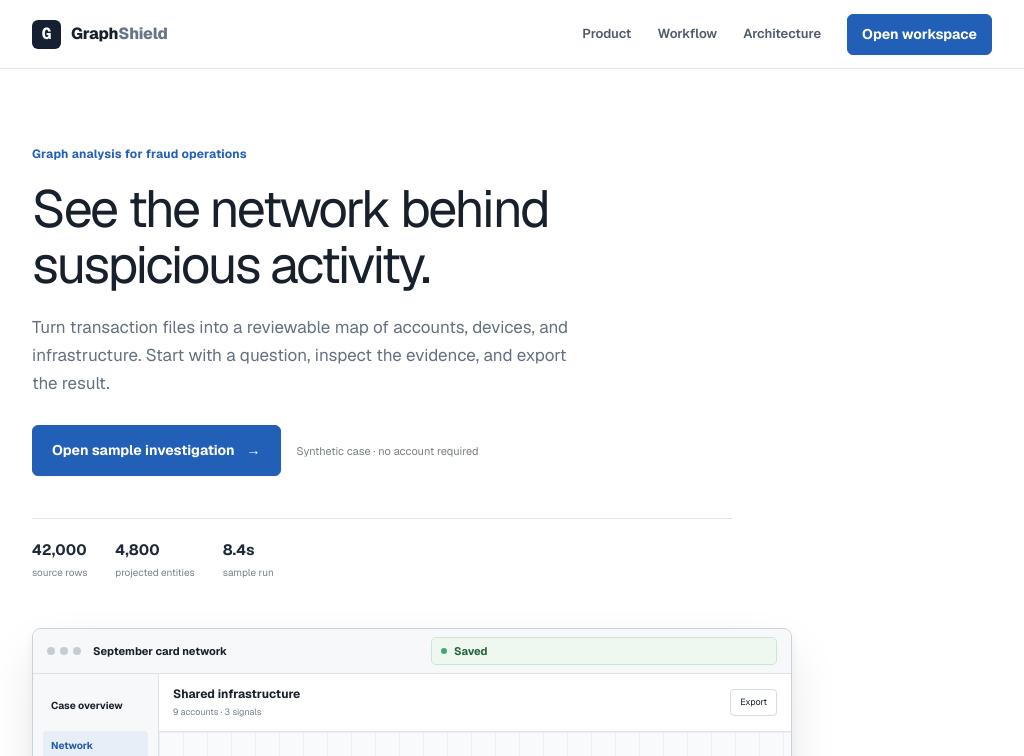
Test: GraphShield investigation shell › enters the seeded investigation with a resilient backend fallback
Click the button "Open sample investigation →" at (156, 451), box [32, 426, 281, 476]
(page scrolled)
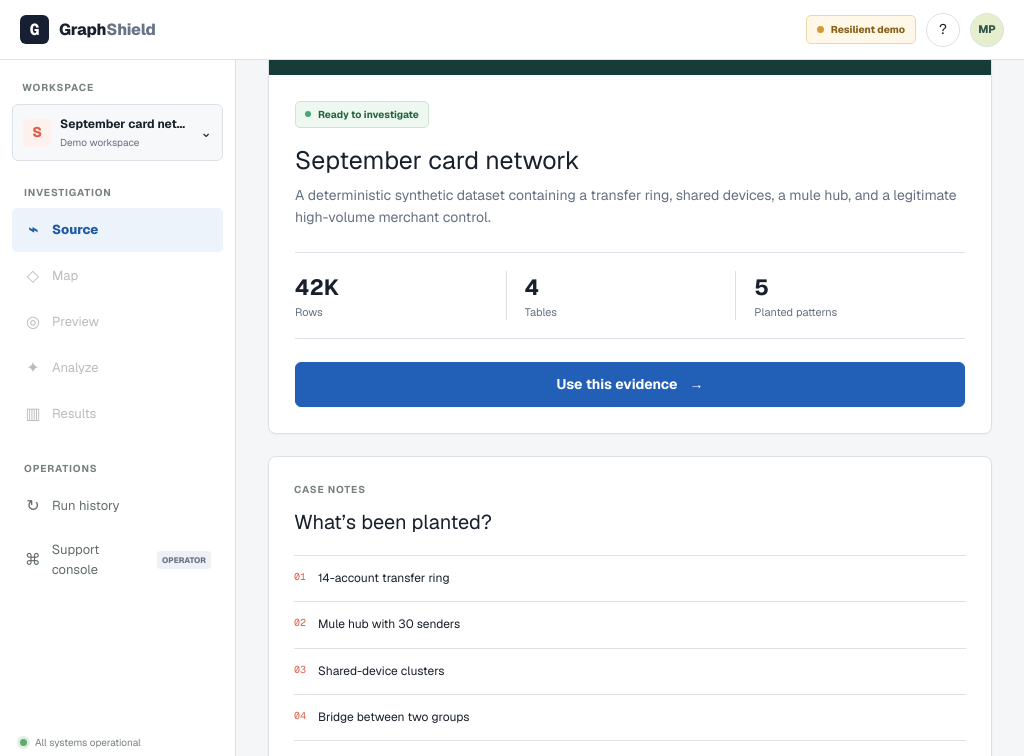
Check: the text "Resilient demo" is shown, box [806, 15, 916, 44]
Check: the button "Use this evidence →" is enabled, box [295, 362, 965, 407]
